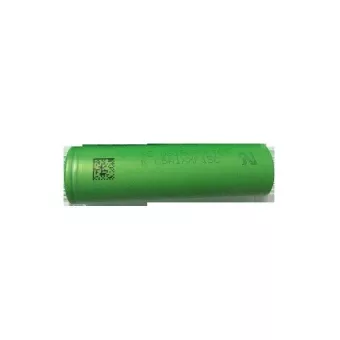Battery: (64, 144, 274, 203)
